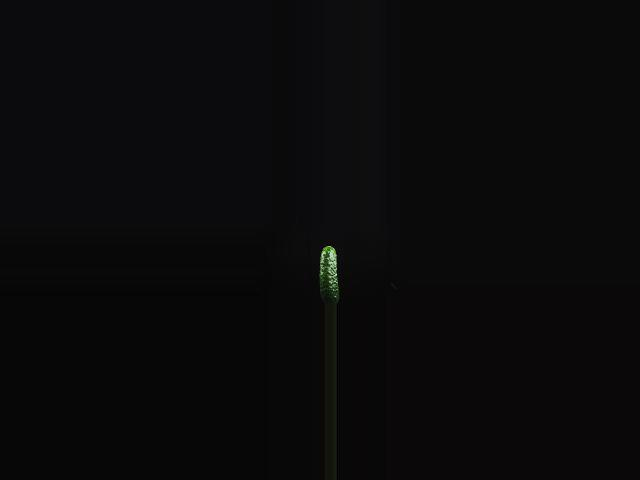cucumber: (319, 245, 340, 304)
